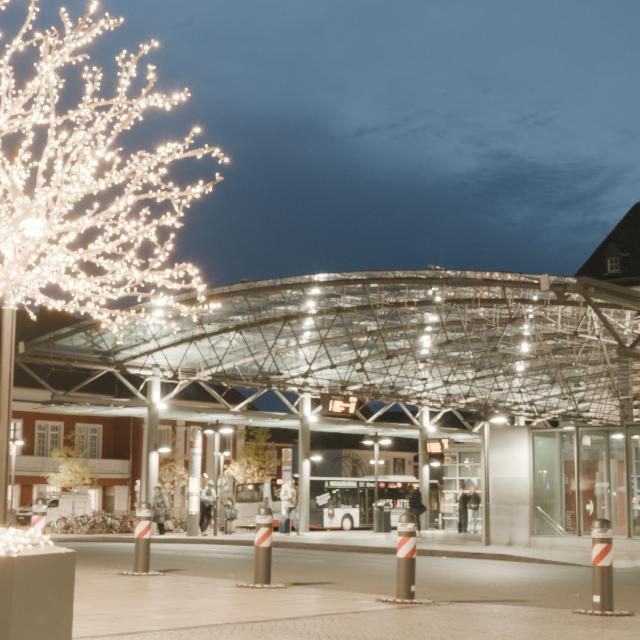Airaplan: (277, 361, 291, 363)
